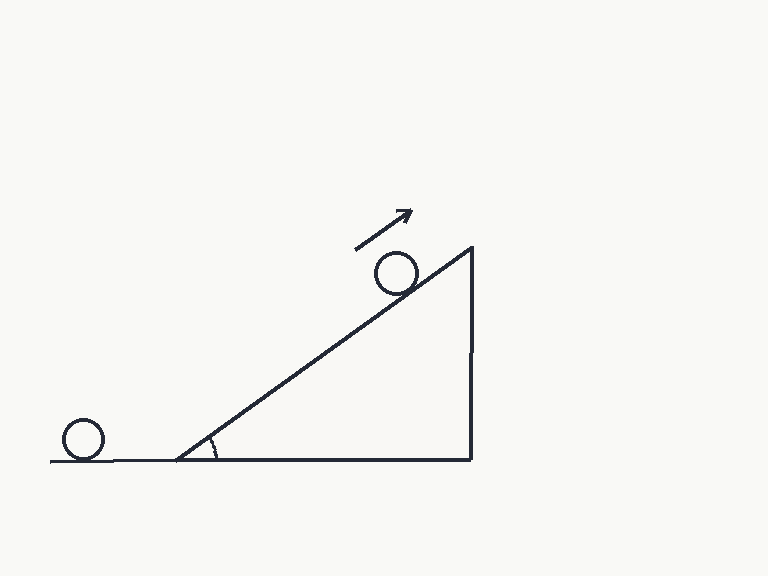ball: (372, 249, 420, 297), (60, 416, 106, 462)
ramp: (174, 244, 472, 462)
